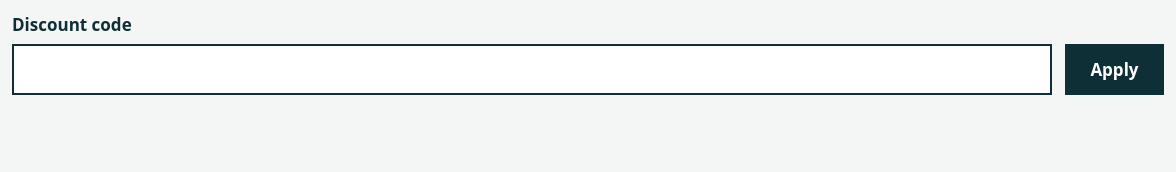
Test: VoucherInput › does not call the server for an empty code
Click the button "Apply".
click(1114, 69)  # box [1065,44,1164,95]
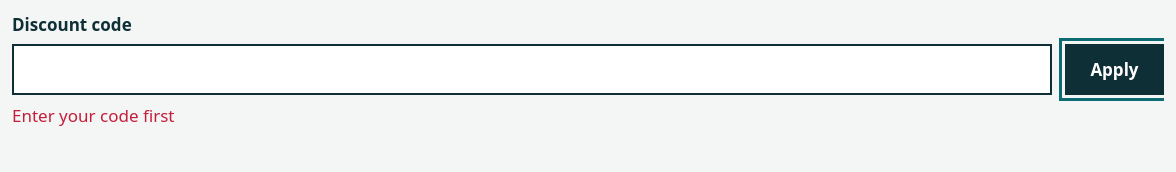
Now the text "Enter your code first" is shown, box [12,104,174,127]
